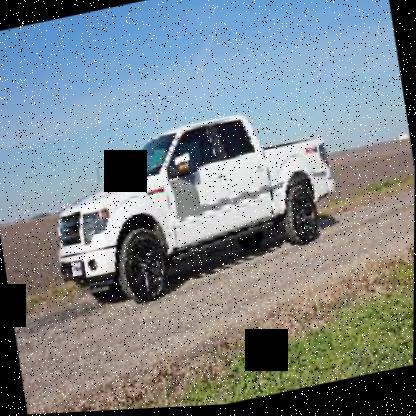not_emergency: (37, 91, 364, 356)
